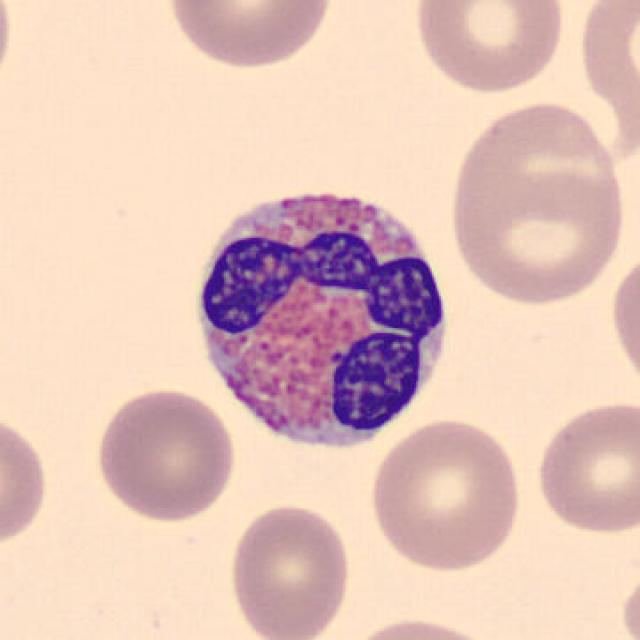Eosinophil: (183, 168, 459, 466)
RBC: (448, 103, 630, 307), (364, 414, 526, 575), (89, 384, 240, 526), (224, 499, 354, 640), (409, 0, 571, 97), (530, 395, 638, 538), (160, 0, 339, 72), (574, 0, 640, 171), (0, 406, 52, 554), (606, 245, 640, 395), (339, 613, 503, 640), (617, 560, 640, 640), (0, 2, 18, 102)
